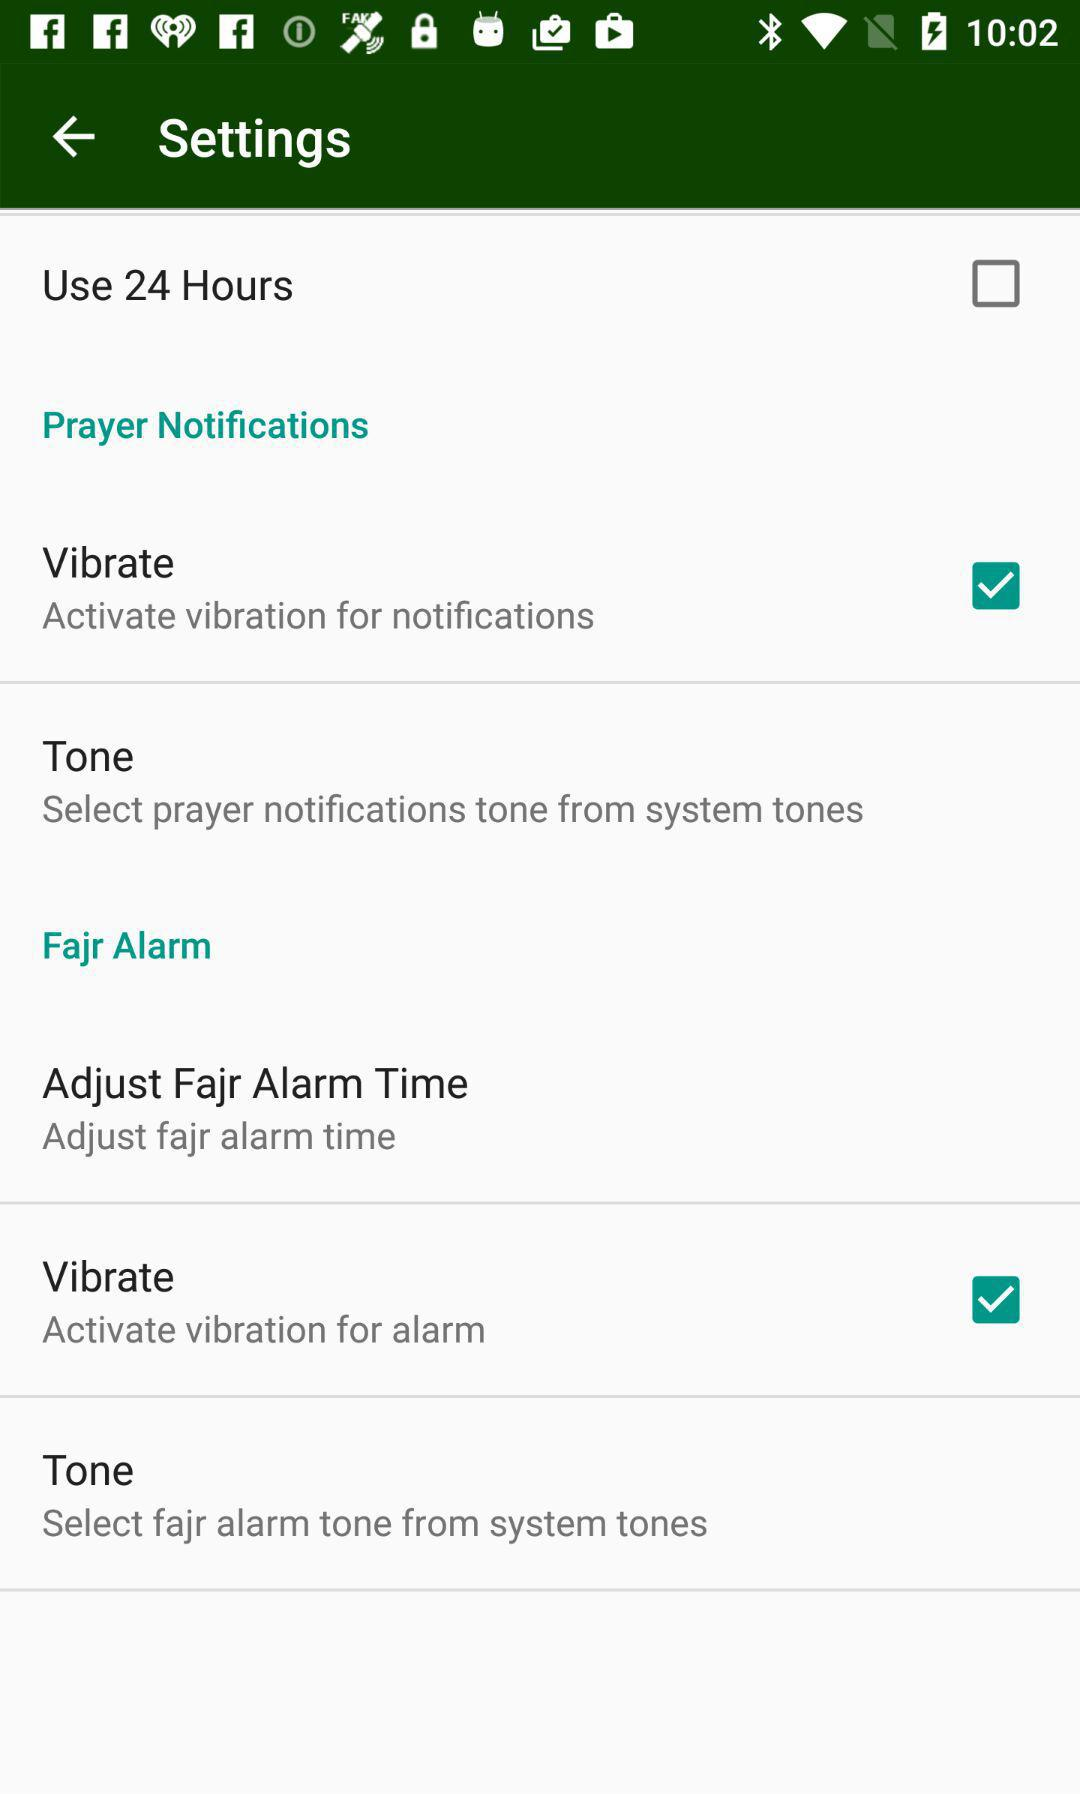CheckedTextView: (971, 1275, 1021, 1325), (972, 563, 1021, 611), (972, 260, 1021, 309)
Icon: (53, 115, 97, 159)
Text: (44, 793, 863, 830), (44, 1507, 708, 1545), (42, 1065, 468, 1108), (44, 601, 594, 630), (44, 1313, 486, 1344), (42, 1121, 396, 1158), (44, 409, 369, 447), (160, 118, 352, 170), (45, 270, 293, 302), (44, 932, 211, 967), (44, 1258, 176, 1293), (44, 546, 176, 580), (44, 739, 135, 773), (44, 1454, 135, 1486)
Toolbar: (1, 65, 1080, 209)
UpperTaskBar: (1, 1, 1080, 64)
